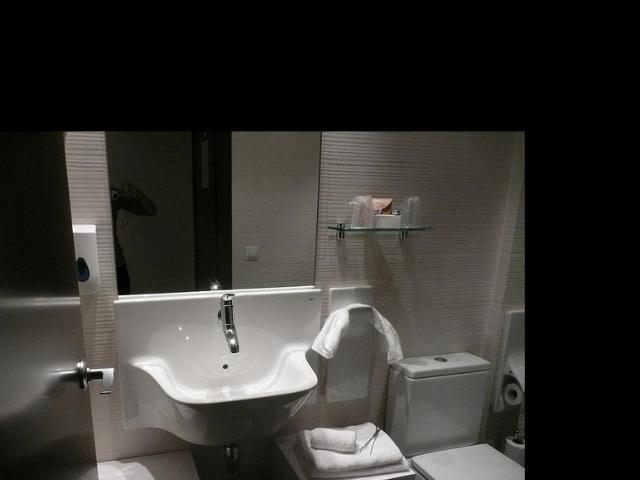Lavamanos: (110, 289, 323, 450)
Sanitario: (385, 349, 524, 480)
